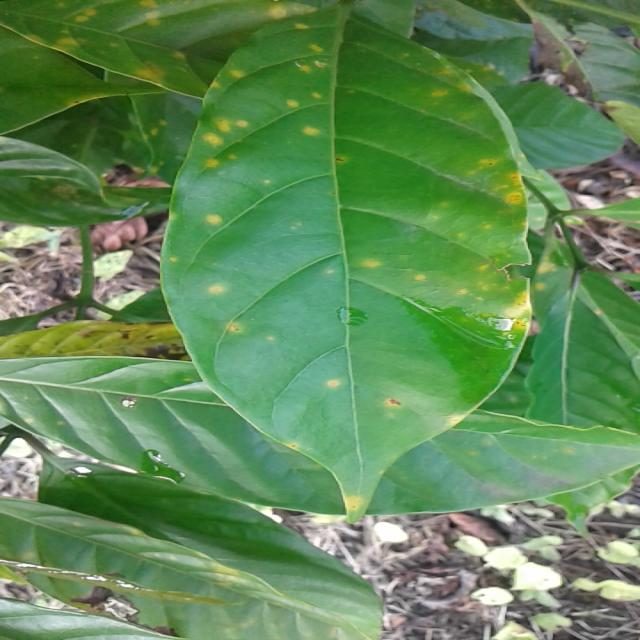Enfermedad-Roya: (168, 12, 534, 514)
